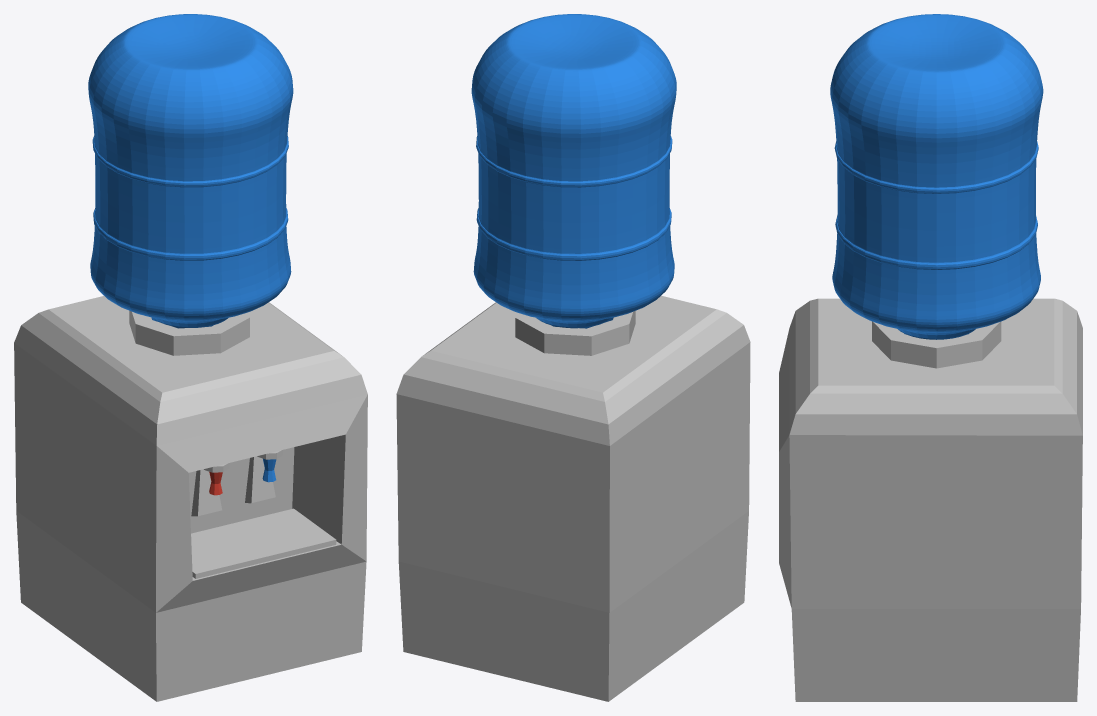
Rendered from water.fbx.
3 renders of one model, left to right at view 1: azimuth 30°, elevation 25°; view 2: azimuth 150°, elevation 25°; view 3: azimuth 270°, elevation 25°, orthographic. The views are drawn at different scales.
Visible parts, largest first — view 1: water; view 2: water; view 3: water.
Part boxes in pixels (x1,y1,x2,y2): water: (14,14,367,701); water: (396,14,750,701); water: (779,14,1082,701).
Size of the model in its own units: 57.49 by 151 by 68.38.
